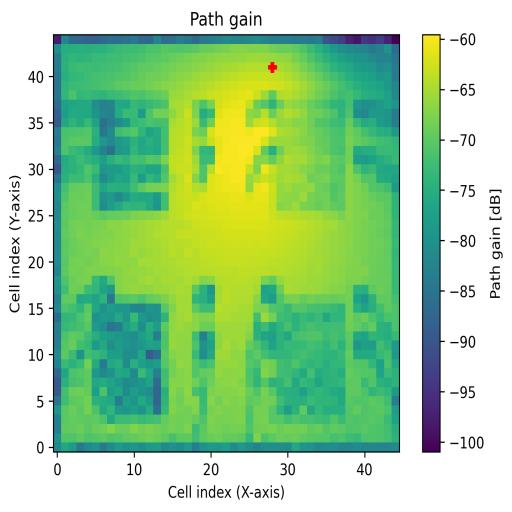Concrete: (276, 100, 345, 210)
Glass: (92, 99, 170, 213)
Metal: (269, 304, 345, 425)
Wood: (92, 303, 168, 416)
